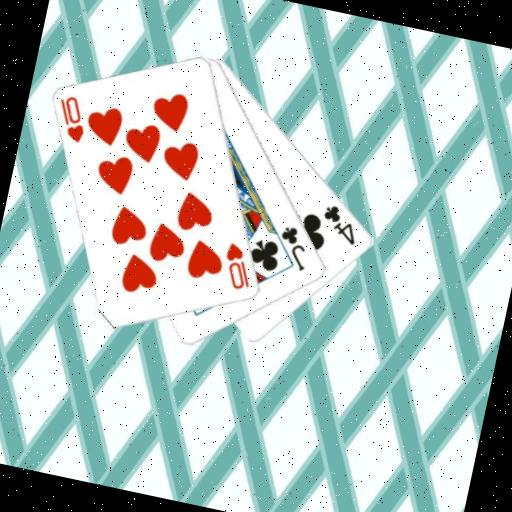10H: (49, 90, 93, 146), (216, 238, 259, 293)
4C: (315, 199, 364, 247)
JC: (271, 221, 315, 274)
